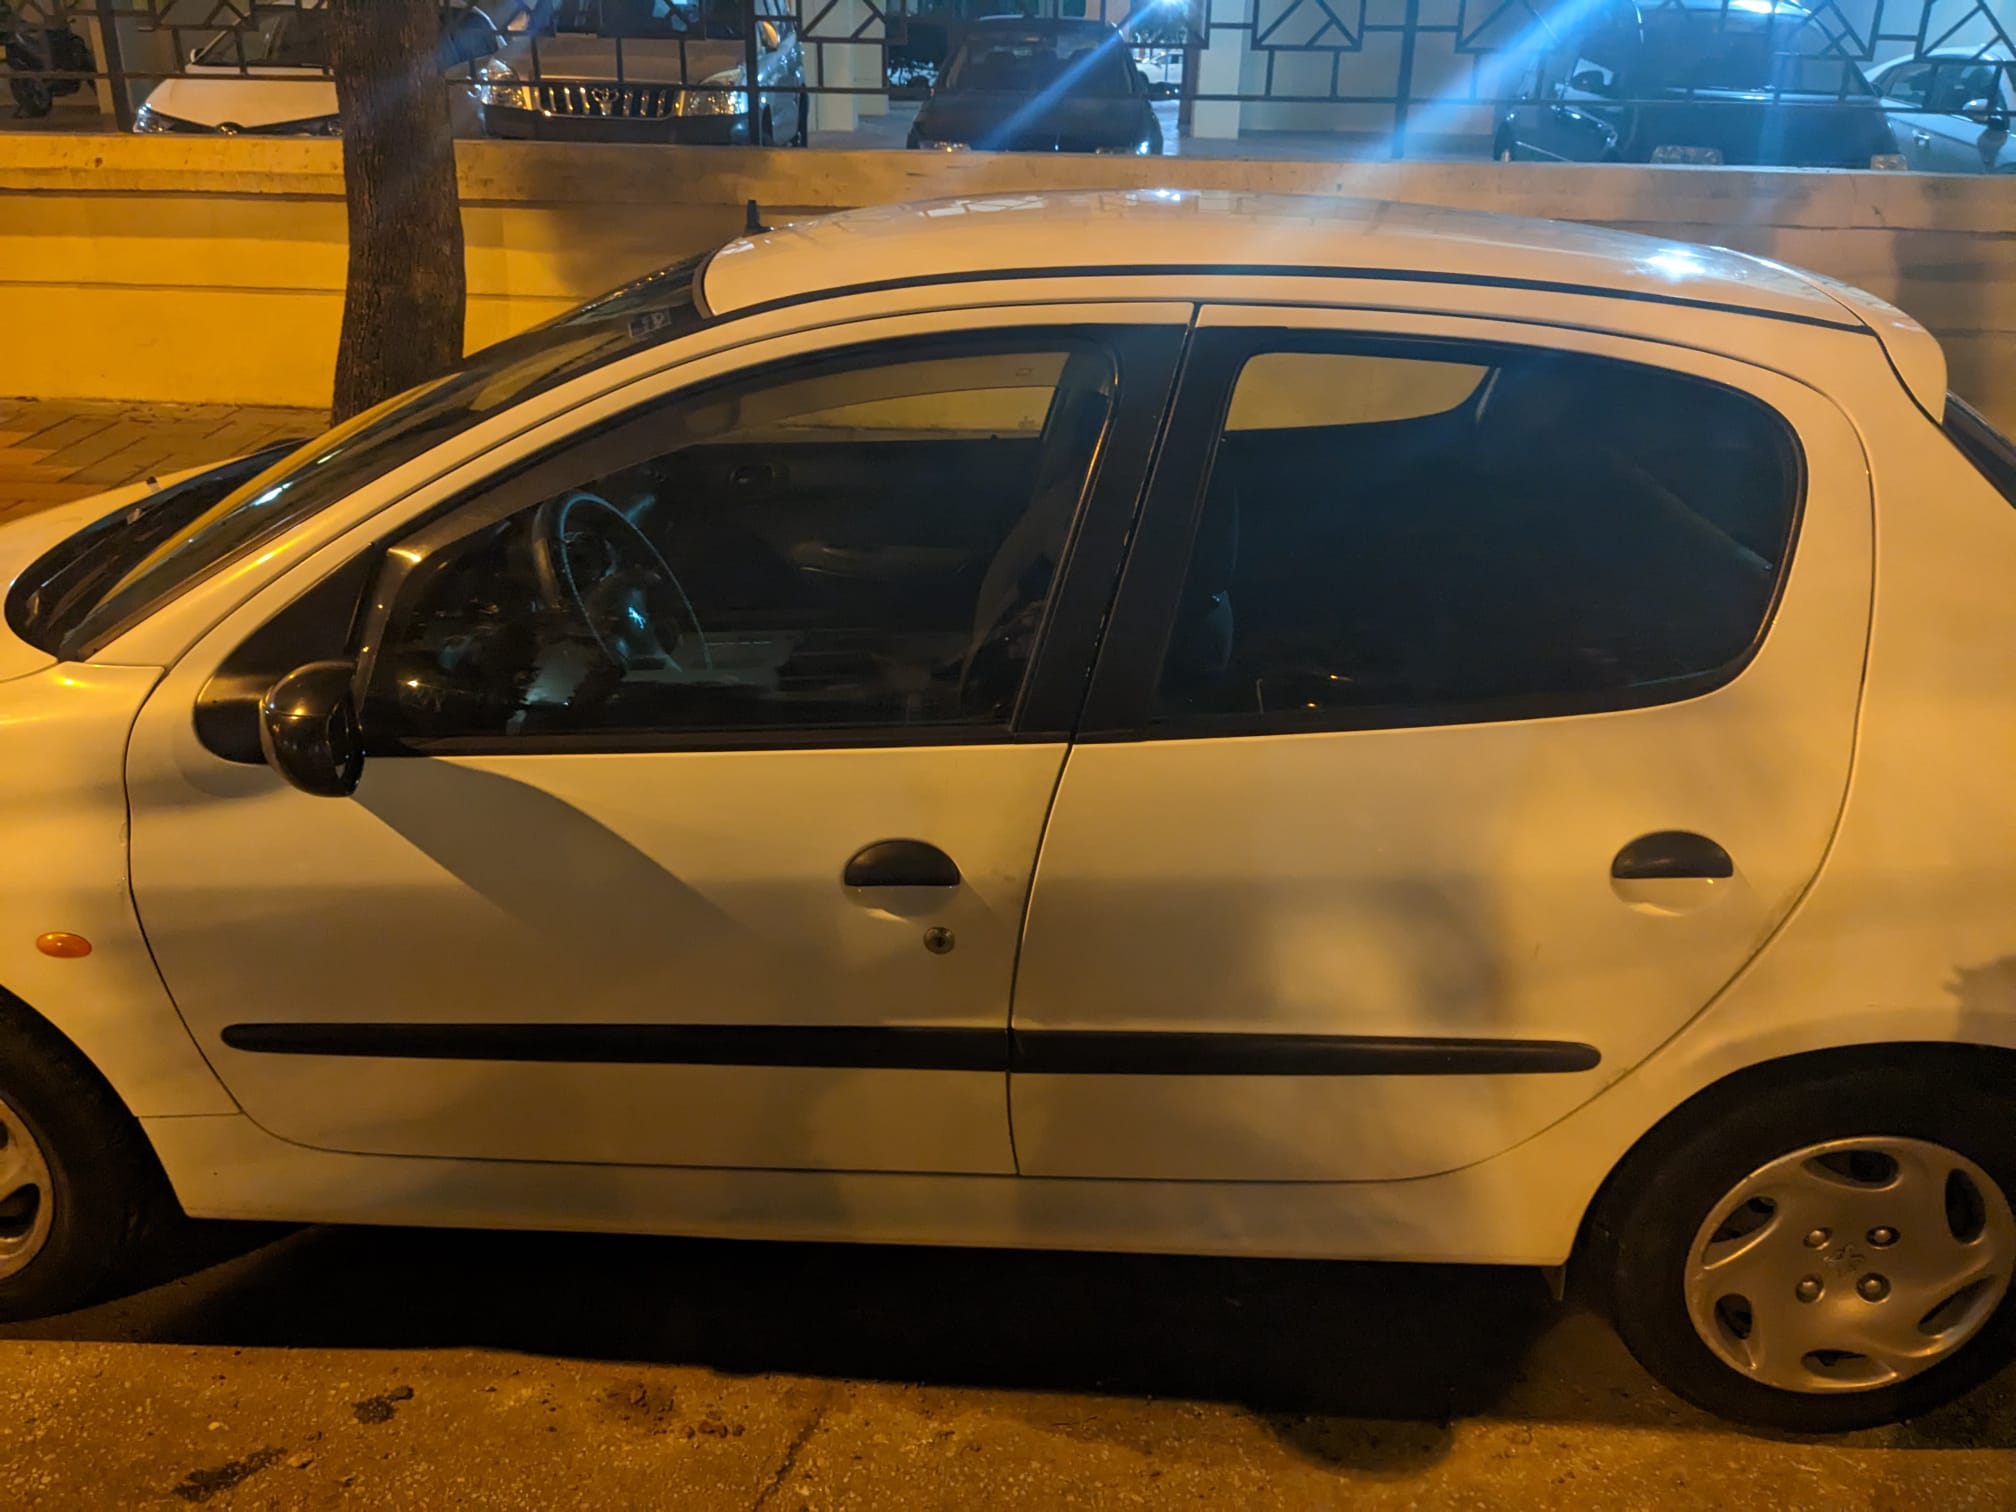car: (0, 178, 2014, 1337), (1483, 0, 1895, 179), (478, 3, 811, 173), (906, 11, 1194, 157), (114, 0, 360, 151), (1868, 40, 2014, 183)
